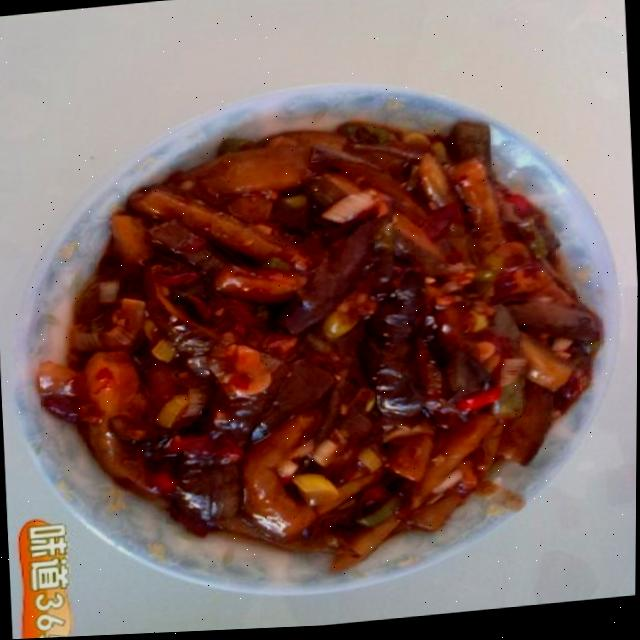鸡蛋料理: (40, 81, 598, 609)
